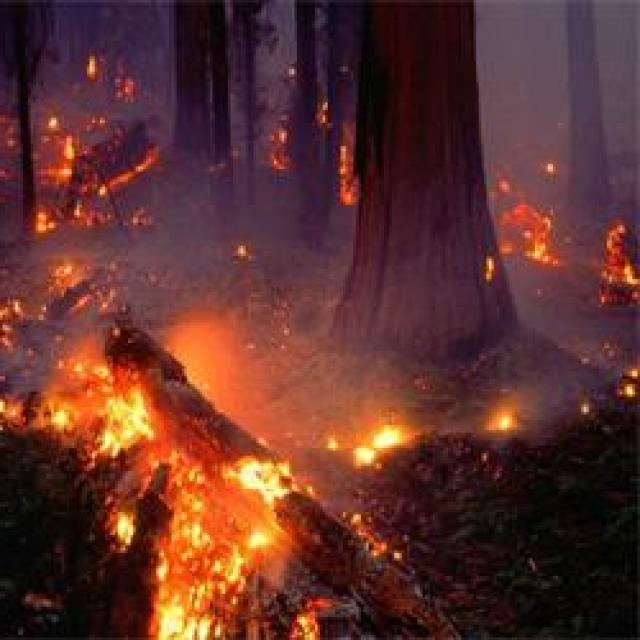fire: (141, 460, 281, 638), (83, 378, 157, 456), (350, 422, 406, 472)
